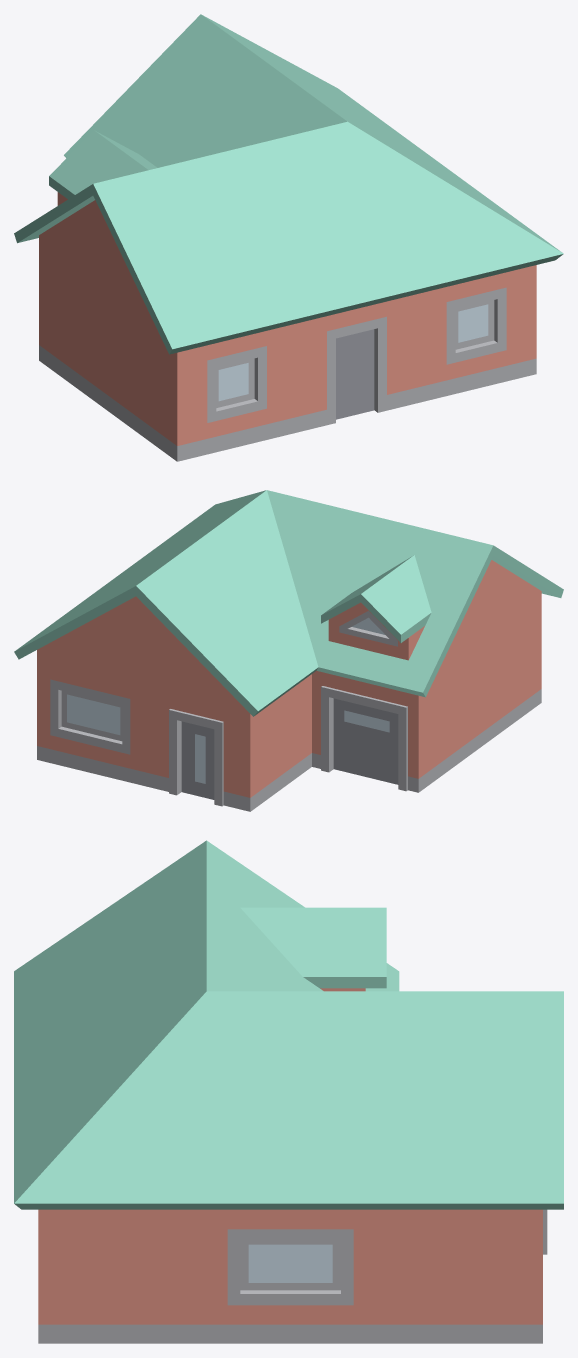
Rendered from casa.glb.
3 renders of one model, top to bottom at view 1: azimuth 30°, elevation 25°; view 2: azimuth 150°, elevation 25°; view 3: azimuth 270°, elevation 25°, orthographic. The views are drawn at different scales.
Parts seen in each view (by area): view 1: house_type05; view 2: house_type05; view 3: house_type05.
Part boxes in pixels (box(x1,y1,x2,y2)): house_type05: box(14, 14, 563, 461); house_type05: box(14, 490, 563, 811); house_type05: box(14, 840, 563, 1343).
Size of the model in its own units: 1.31 by 0.7375 by 1.31.
1 material, 1 textured.
